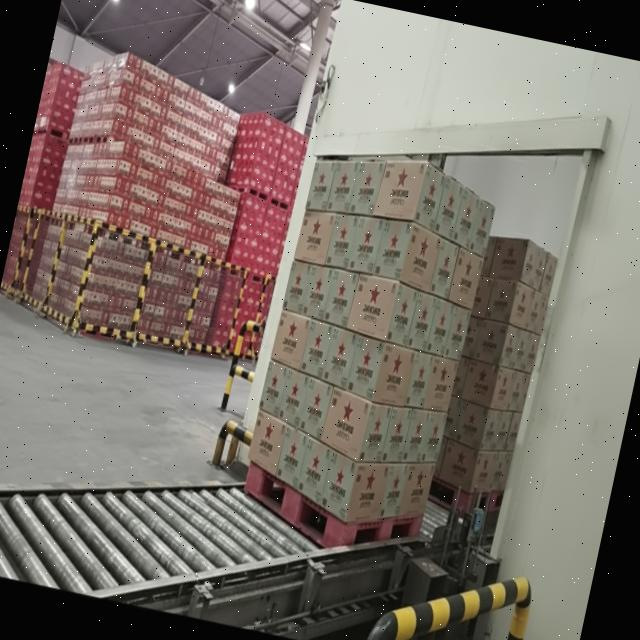pallet: (235, 138, 498, 564), (423, 219, 576, 547)
